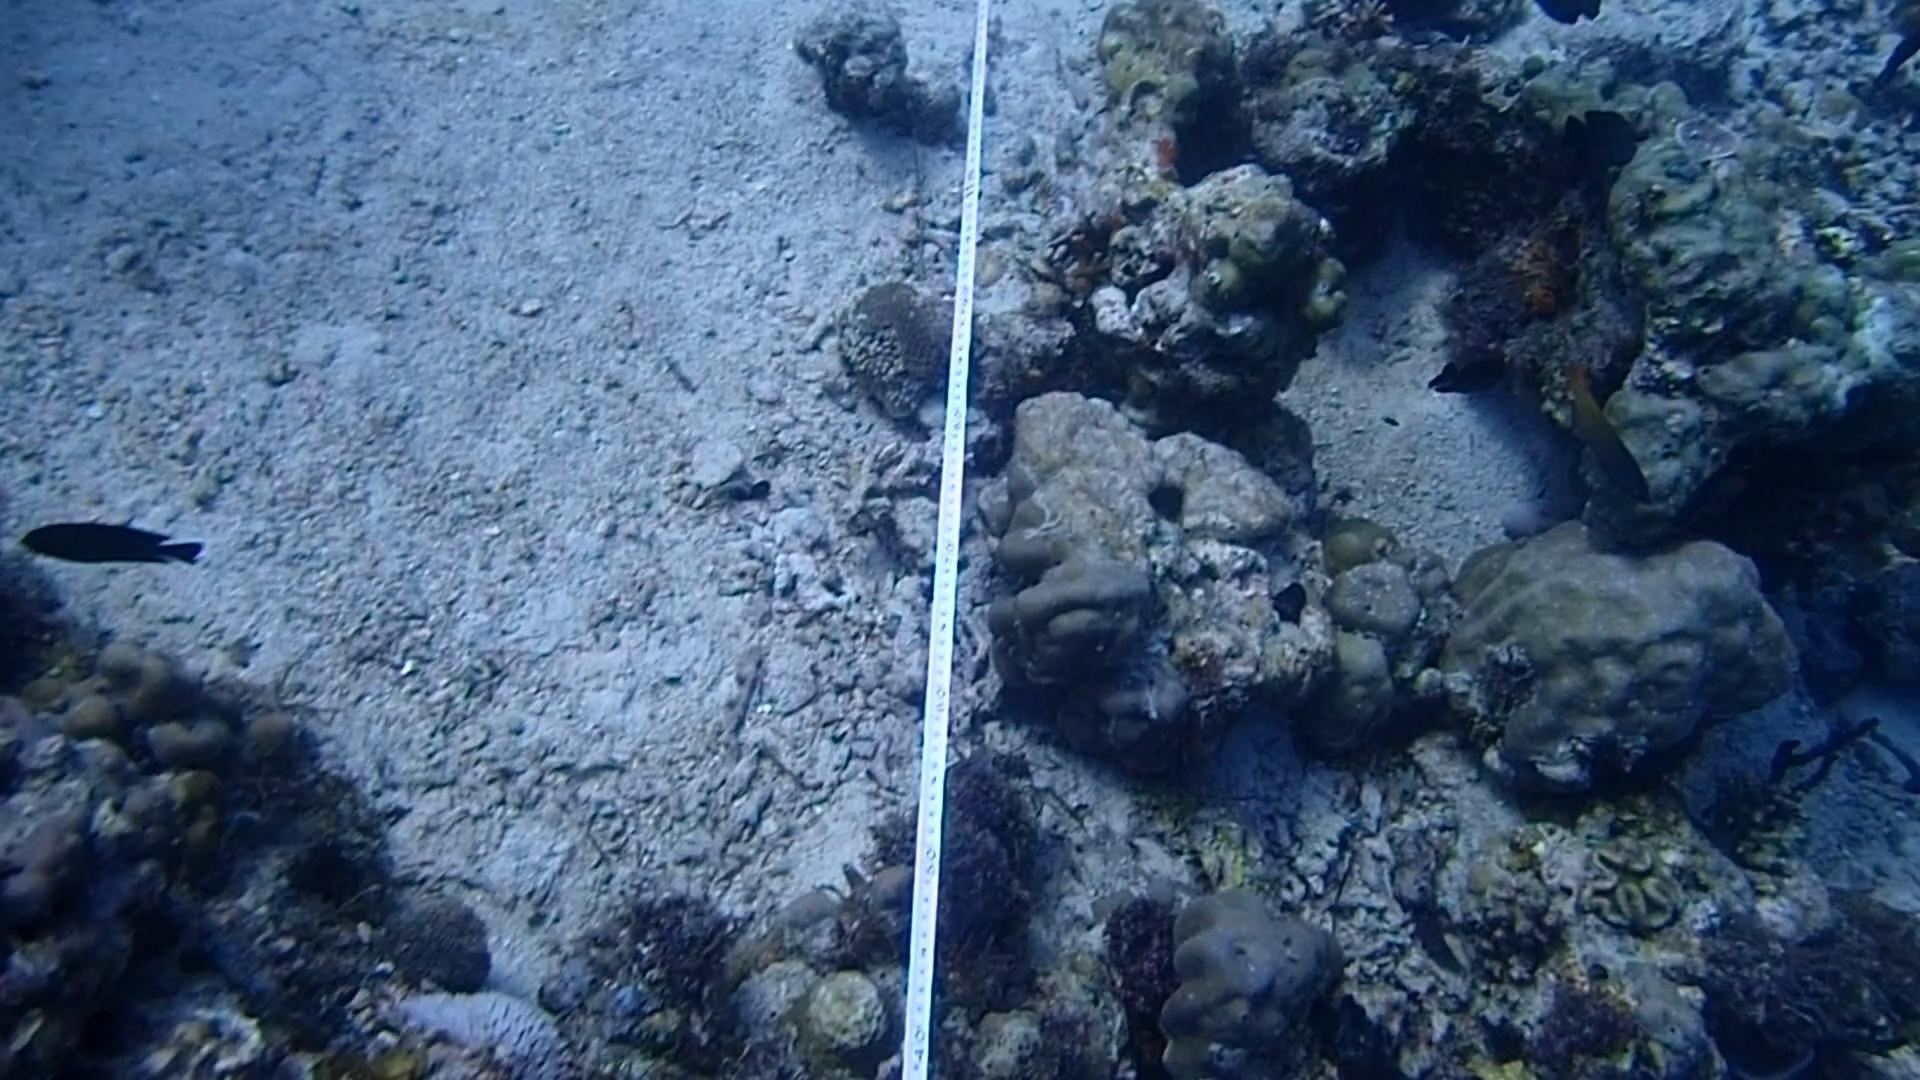Dark Fish: (15, 505, 208, 582), (1540, 92, 1654, 181), (1416, 340, 1503, 413)
Half Blue - Half Yellow: (1561, 361, 1663, 513)
